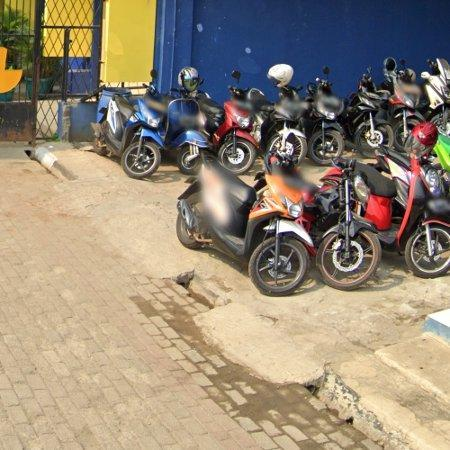motorcycles: (178, 162, 315, 296), (365, 122, 450, 279), (301, 158, 383, 291), (198, 70, 263, 175), (93, 90, 164, 179), (247, 64, 308, 166), (304, 67, 345, 165)
